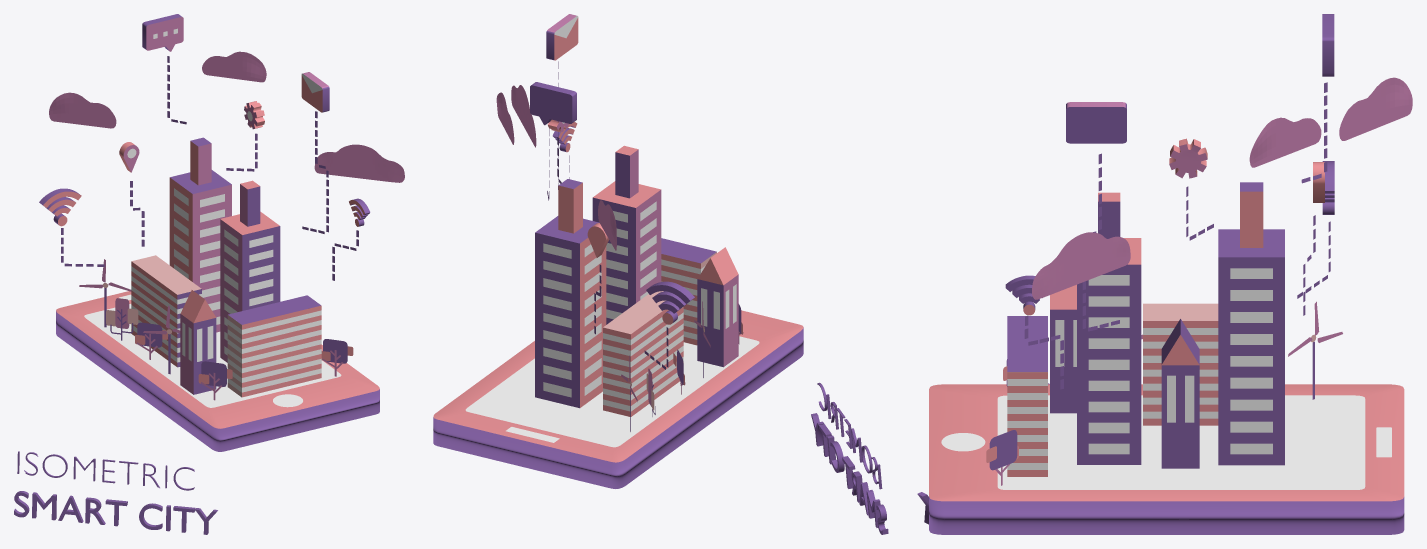
Rendered from isometric-smart-city.glb.
3 renders of one model, left to right at view 1: azimuth 30°, elevation 25°; view 2: azimuth 150°, elevation 25°; view 3: azimuth 270°, elevation 25°, orthographic. The views are drawn at different scales.
Visible parts, largest first — view 1: Cube_1, Cube_0, Cube.001_1, Cube.001_0, Cube_2, Cube.006_3, Cube.003_0, Text_0, Plane.008_0, Cube.003_3, Cube.006_1, Cube.006_2 (+18 smaller); view 2: Cube_1, Cube_2, Cube_0, Cube.006_0, Cube.006_2, Cube.006_1, Cube.005_0, Cube.005_1, Cube.003_0, Cube.003_3, Text_0, Cube.003_1 (+14 smaller); view 3: Cube_2, Cube_0, Cube_1, Cube.006_0, Cube.003_0, Cube.006_1, Cube.003_1, Cube.004_0, Plane.008_0, Cube.005_0, Plane.010_0, Cube.005_1 (+14 smaller).
Boxes of the visible parts, bbox=[...] form: Cube_1: bbox=[56, 311, 379, 451]; Cube_0: bbox=[56, 291, 379, 428]; Cube.001_1: bbox=[227, 310, 321, 392]; Cube.001_0: bbox=[242, 305, 321, 397]; Cube_2: bbox=[84, 294, 341, 407]; Cube.006_3: bbox=[192, 143, 231, 332]; Cube.003_0: bbox=[242, 186, 280, 310]; Text_0: bbox=[14, 491, 217, 534]; Plane.008_0: bbox=[314, 144, 404, 182]; Cube.003_3: bbox=[220, 184, 247, 362]; Cube.006_1: bbox=[174, 188, 224, 324]; Cube.006_2: bbox=[169, 141, 198, 281]; Cube_1: bbox=[433, 327, 803, 488]; Cube_2: bbox=[465, 336, 759, 447]; Cube_0: bbox=[433, 310, 803, 462]; Cube.006_0: bbox=[535, 179, 599, 408]; Cube.006_2: bbox=[558, 182, 606, 407]; Cube.006_1: bbox=[543, 243, 601, 397]; Cube.005_0: bbox=[603, 307, 683, 416]; Cube.005_1: bbox=[603, 307, 683, 411]; Cube.003_0: bbox=[592, 152, 635, 324]; Cube.003_3: bbox=[630, 149, 661, 302]; Text_0: bbox=[811, 413, 888, 534]; Cube.003_1: bbox=[606, 201, 656, 319]; Cube_2: bbox=[941, 395, 1391, 489]; Cube_0: bbox=[929, 384, 1404, 501]; Cube_1: bbox=[929, 497, 1404, 534]; Cube.006_0: bbox=[1218, 182, 1284, 465]; Cube.003_0: bbox=[1077, 201, 1141, 464]; Cube.006_1: bbox=[1230, 268, 1272, 454]; Cube.003_1: bbox=[1088, 275, 1129, 454]; Cube.004_0: bbox=[1161, 319, 1199, 468]; Plane.008_0: bbox=[1032, 232, 1130, 299]; Cube.005_0: bbox=[1143, 321, 1218, 425]; Plane.010_0: bbox=[1339, 77, 1412, 140]; Cube.005_1: bbox=[1143, 328, 1218, 418].
Bounding box in the file's own units: 23.97 × 24.84 × 19.74.
